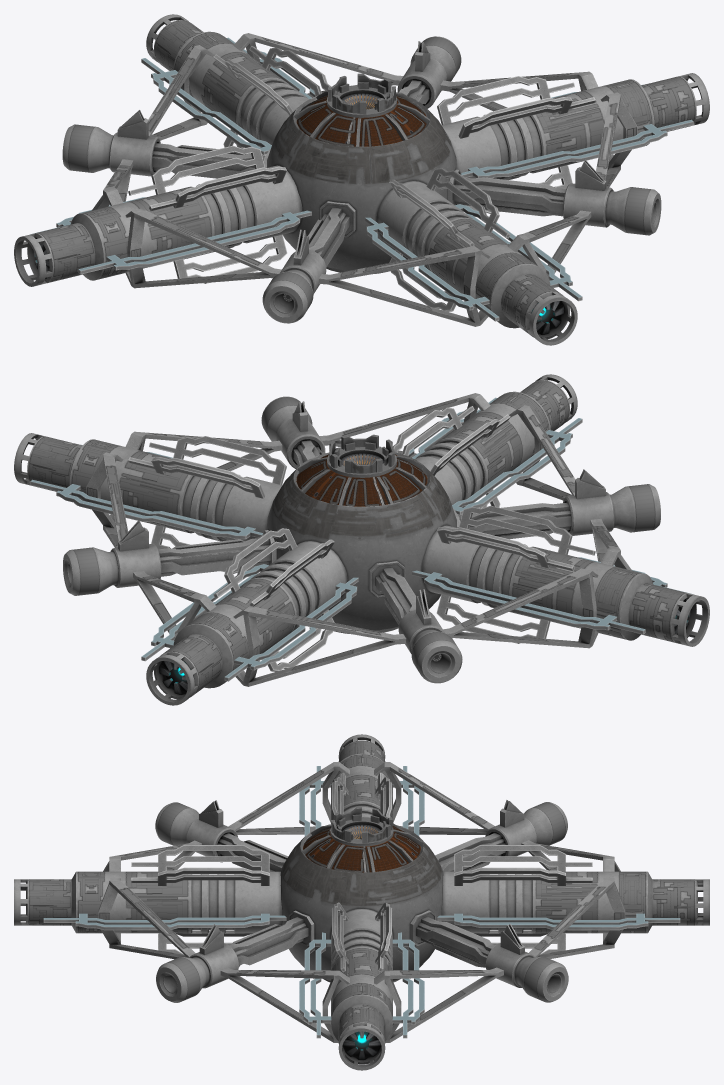
File: sci-fi_space_station_rotor_nexus.glb
3 renders of one model, top to bottom at view 1: azimuth 30°, elevation 25°; view 2: azimuth 150°, elevation 25°; view 3: azimuth 270°, elevation 25°, orthographic. The views are drawn at different scales.
Parts seen in each view (by area): view 1: SpaceStationParts_1, SpaceStationCore, SupportStructure_Beam3, SupportStructure_Beam4, SupportStructure_Beam2, SupportStructure_Beam1, SurfaceBraces_Long2_2, SurfaceBraces_Long4_1, SurfaceBraces_Long3_1, SurfaceBraces_Long1_2, SurfaceBraces_Short2_1, SurfaceBraces_Short4_2 (+10 smaller); view 2: SpaceStationParts_1, SpaceStationCore, SupportStructure_Beam2, SupportStructure_Beam1, SupportStructure_Beam4, SupportStructure_Beam3, SurfaceBraces_Long2_1, SurfaceBraces_Long4_2, SurfaceBraces_Long1_2, SurfaceBraces_Long3_1, SurfaceBraces_Short2_2, SurfaceBraces_Short4_1 (+10 smaller); view 3: SpaceStationParts_1, SpaceStationCore, SupportStructure_Beam4, SupportStructure_Beam1, SupportStructure_Beam3, SupportStructure_Beam2, SurfaceBraces_Long3_2, SurfaceBraces_Long1_1, SurfaceBraces_Short3_2, SurfaceBraces_Short1_1, SurfaceBraces_Short1_2, SurfaceBraces_Short3_1 (+7 smaller).
Part boxes in pixels (x1,y1,x2,y2): SpaceStationParts_1: (14,14,709,345); SpaceStationCore: (267,85,456,273); SupportStructure_Beam3: (125,208,490,326); SupportStructure_Beam4: (507,92,637,280); SupportStructure_Beam2: (92,45,214,210); SupportStructure_Beam1: (233,33,598,111); SurfaceBraces_Long2_2: (78,210,311,274); SurfaceBraces_Long4_1: (461,119,693,178); SurfaceBraces_Long3_1: (365,217,499,321); SurfaceBraces_Long1_2: (141,58,271,154); SurfaceBraces_Short2_1: (128,145,265,195); SurfaceBraces_Short4_2: (437,76,574,124); SpaceStationParts_1: (14,374,709,705); SpaceStationCore: (267,446,456,633); SupportStructure_Beam2: (233,568,598,686); SupportStructure_Beam1: (86,452,216,640); SupportStructure_Beam4: (125,393,490,471); SupportStructure_Beam3: (509,405,631,570); SurfaceBraces_Long2_1: (412,570,645,634); SurfaceBraces_Long4_2: (30,479,262,539); SurfaceBraces_Long1_2: (224,577,358,681); SurfaceBraces_Long3_1: (452,418,582,514); SurfaceBraces_Short2_2: (458,505,595,555); SurfaceBraces_Short4_1: (149,436,286,484); SpaceStationParts_1: (14,734,709,1070); SpaceStationCore: (280,817,443,982); SupportStructure_Beam4: (98,878,349,1042); SupportStructure_Beam1: (374,878,625,1042); SupportStructure_Beam3: (103,762,349,871); SupportStructure_Beam2: (374,762,620,871); SurfaceBraces_Long3_2: (43,913,286,930); SurfaceBraces_Long1_1: (437,913,680,930); SurfaceBraces_Short3_2: (131,867,269,885); SurfaceBraces_Short1_1: (454,867,592,885); SurfaceBraces_Short1_2: (454,845,592,871); SurfaceBraces_Short3_1: (131,845,269,871).
Bounding box in the file's own units: 6.49 × 1.52 × 6.49.
2 materials, 2 textured.
